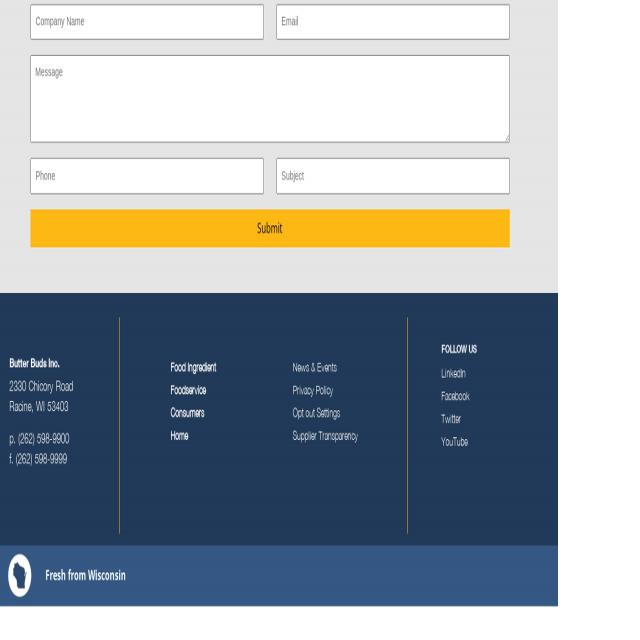button: (31, 209, 510, 248), (8, 552, 32, 596)
field: (31, 55, 509, 142), (277, 156, 509, 194), (30, 3, 264, 40), (30, 158, 263, 194), (277, 5, 509, 39)
